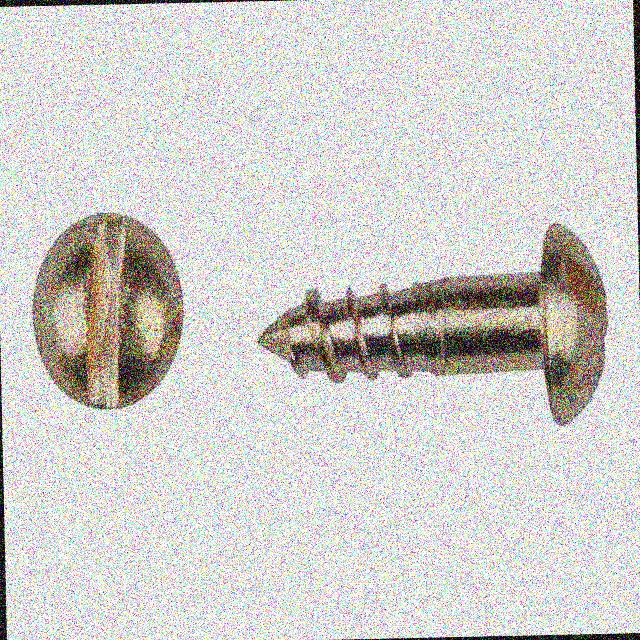duz: (29, 208, 186, 411)
